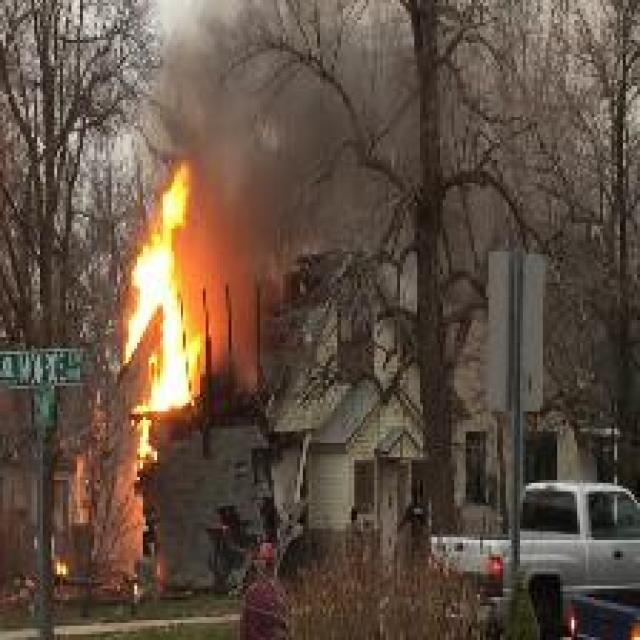Fire: (118, 162, 203, 406)
